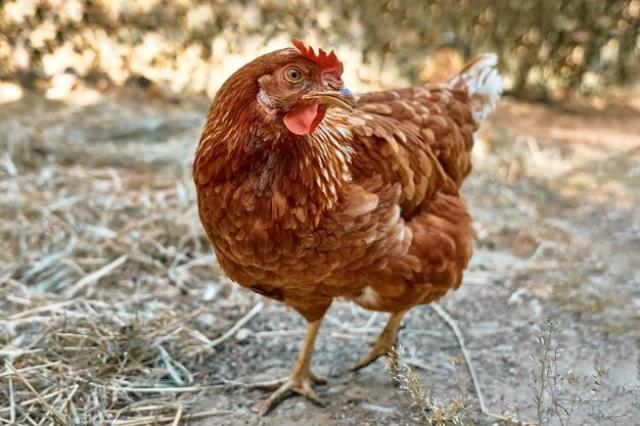Chicken: (193, 38, 501, 415)
